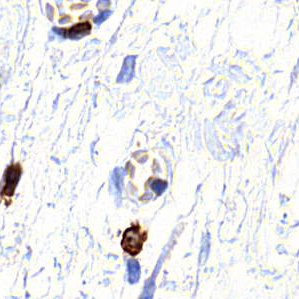Lymphocyte: (119, 226, 150, 256)
